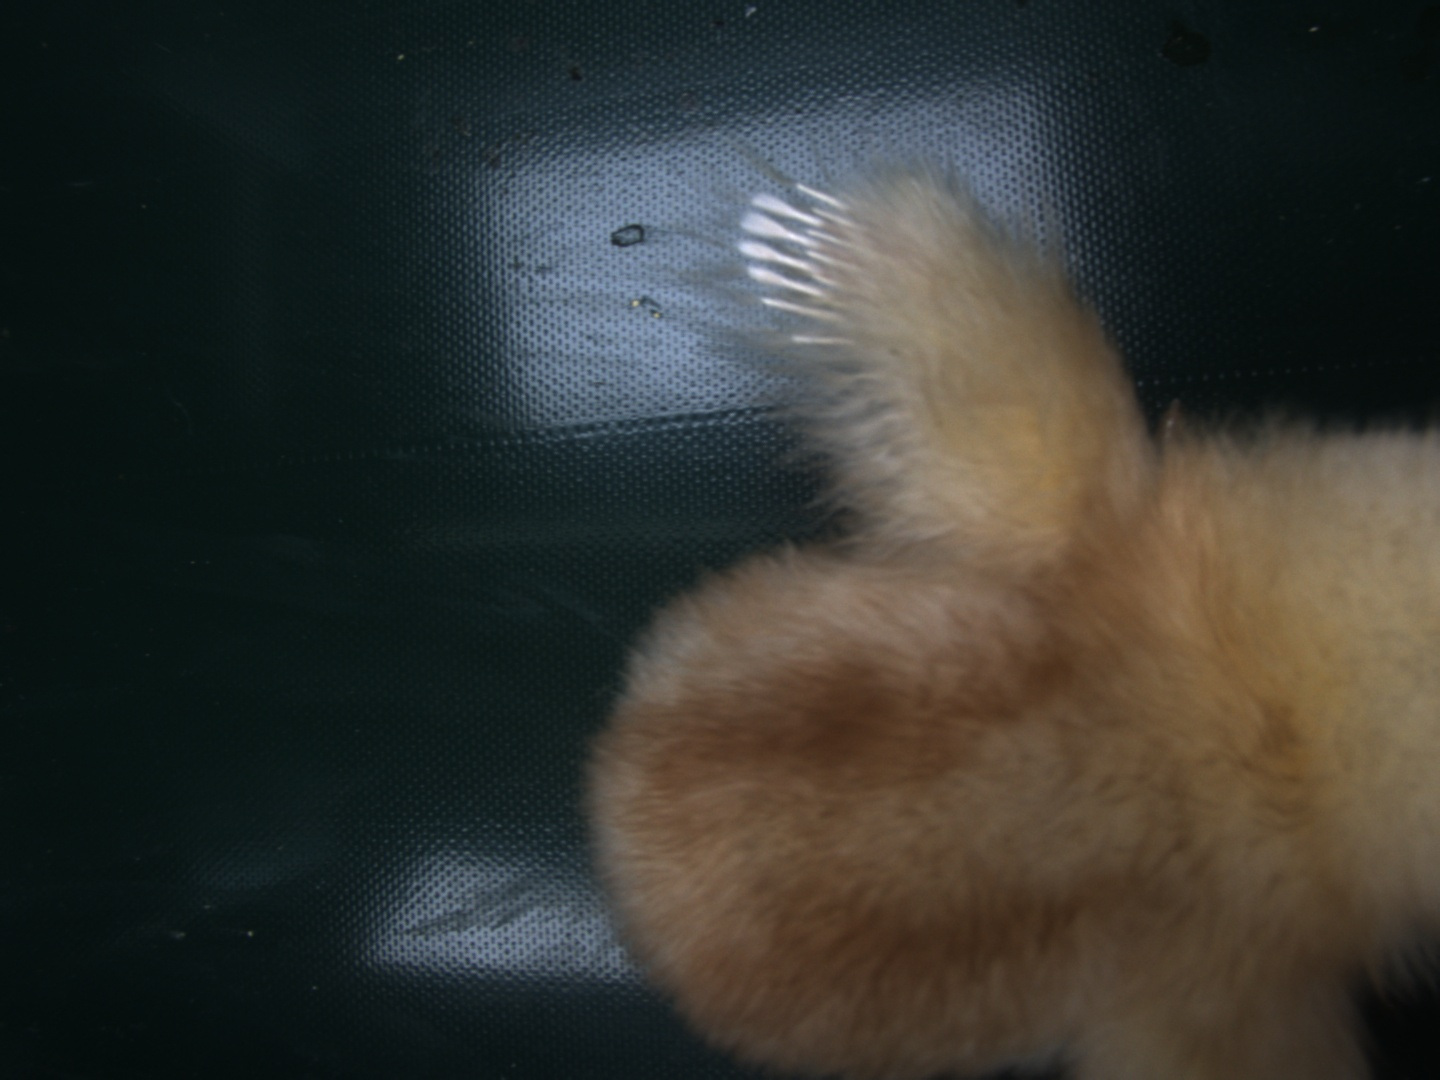female: (736, 174, 899, 364)
